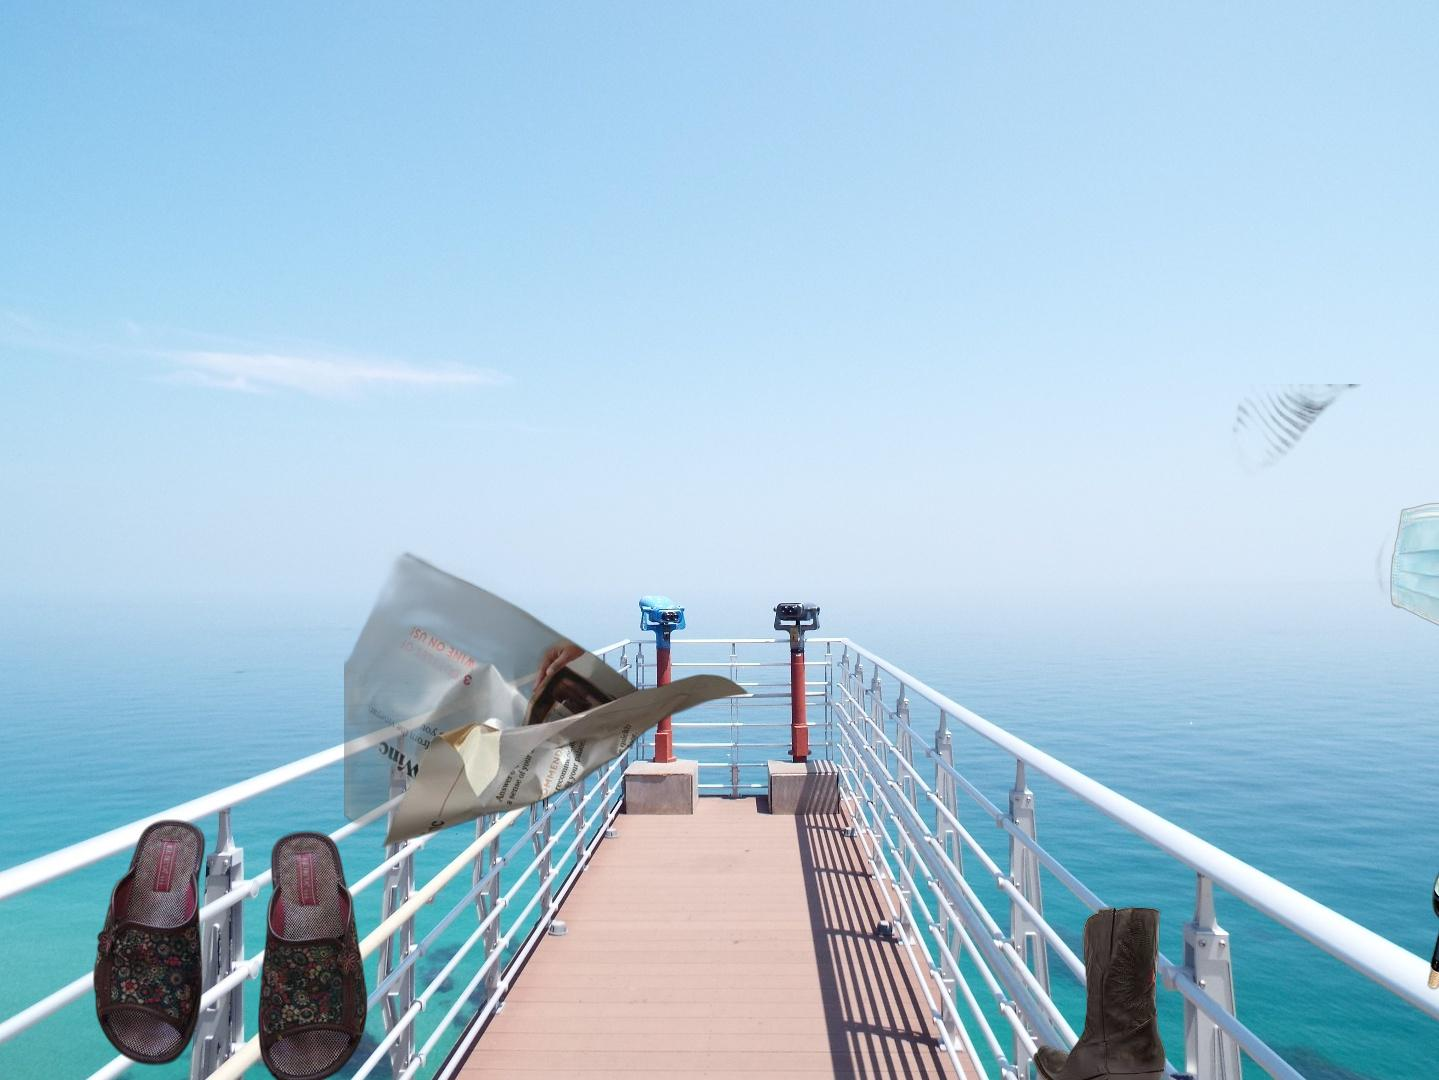glass: (1229, 384, 1439, 995)
paper: (344, 547, 751, 850)
shoes: (90, 815, 371, 1080), (1030, 904, 1169, 1080)
trash: (1375, 500, 1439, 635)
